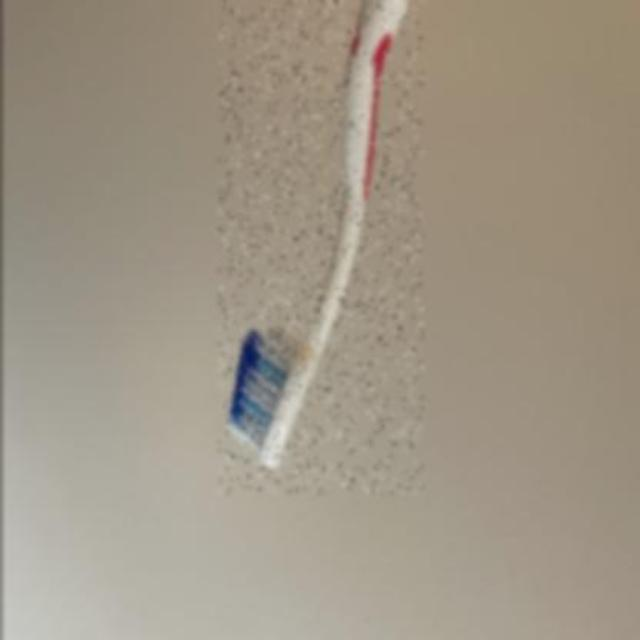toothbrush: (217, 1, 421, 493)
